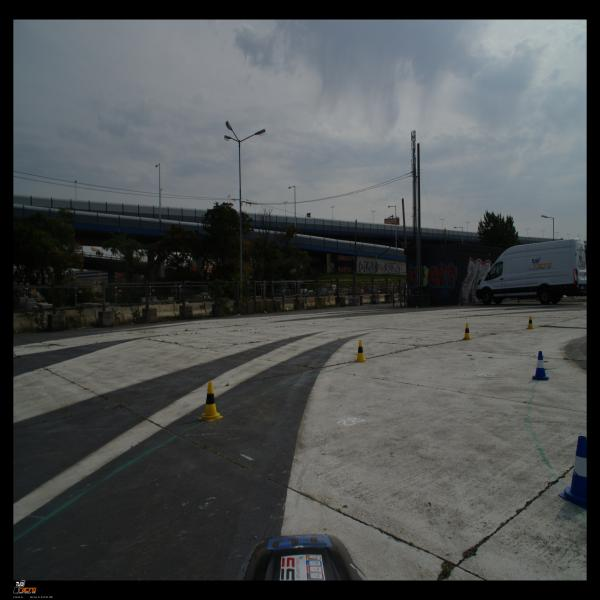blue_cone: (558, 436, 587, 510), (532, 351, 549, 381)
yellow_cone: (199, 382, 223, 421), (354, 340, 366, 362), (462, 323, 473, 340), (526, 316, 535, 329)
